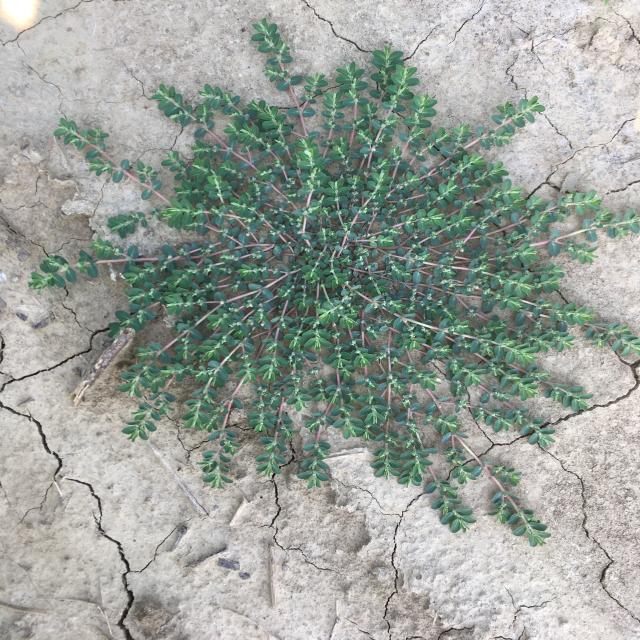SpottedSpurge: (28, 17, 640, 547)
